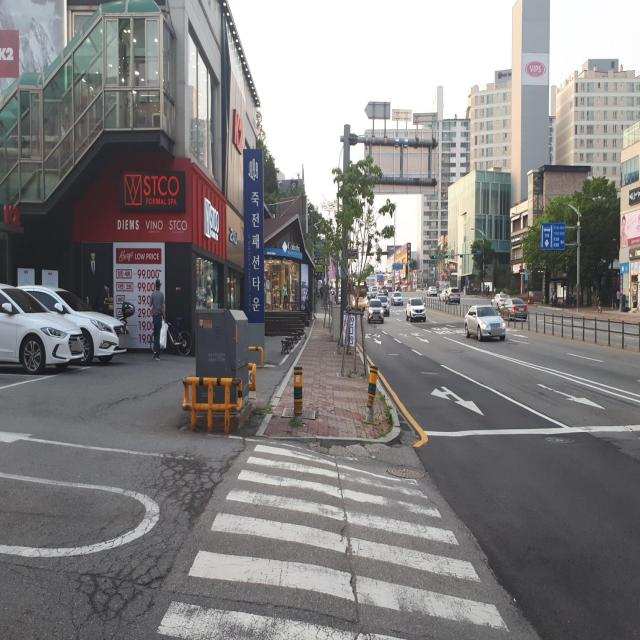횡단보도: (154, 443, 510, 640)
